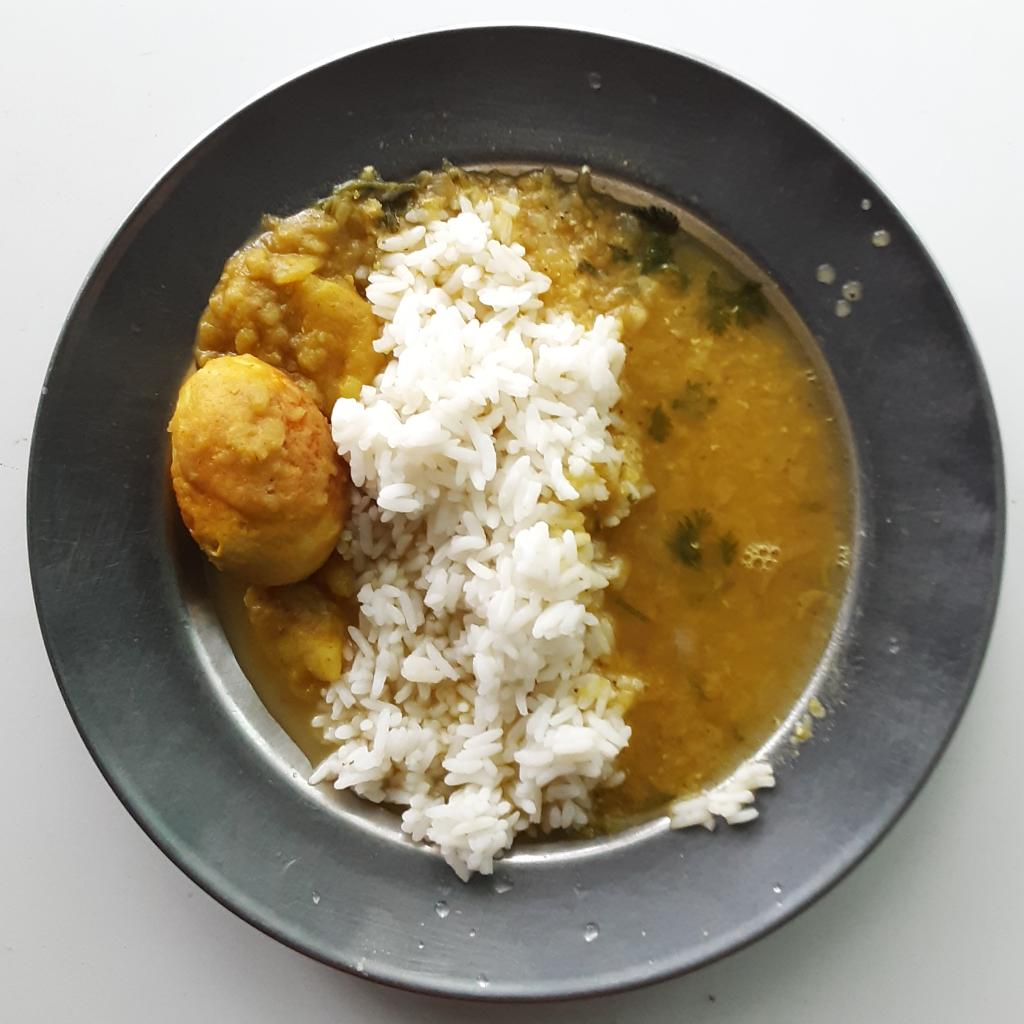daal: (424, 170, 859, 826)
egg-boiled: (168, 350, 350, 585)
potato: (191, 162, 396, 402), (211, 566, 357, 760)
rice: (309, 189, 653, 875), (663, 764, 779, 832)
